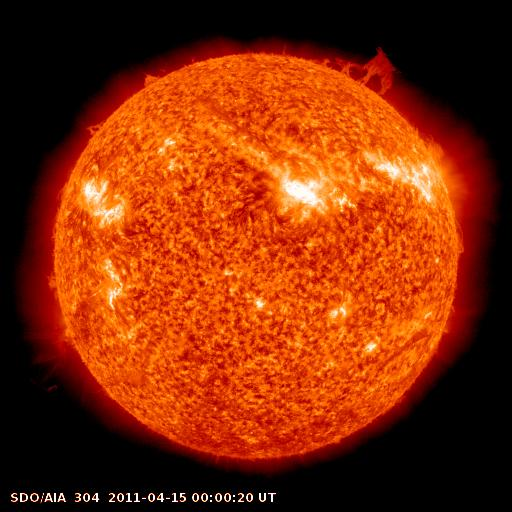prominence: (317, 37, 397, 98), (417, 130, 456, 177), (131, 60, 177, 98), (444, 210, 475, 259), (75, 111, 114, 148), (36, 264, 69, 306)
